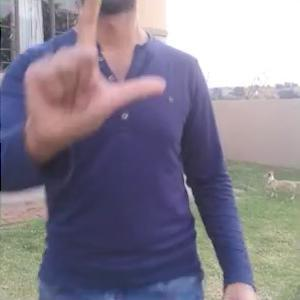land_hand: (19, 0, 166, 146)
